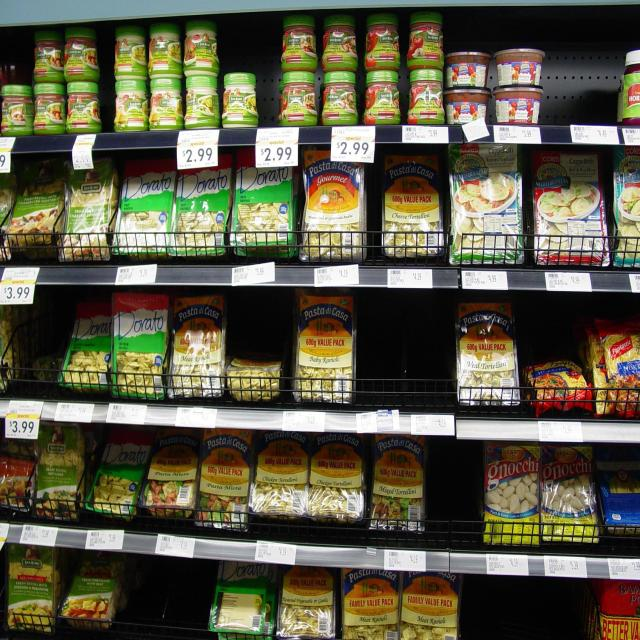empty_space: (363, 309, 451, 396), (464, 590, 588, 640), (552, 44, 616, 120), (130, 568, 202, 628), (430, 469, 482, 538), (20, 309, 60, 377), (239, 312, 285, 350)
